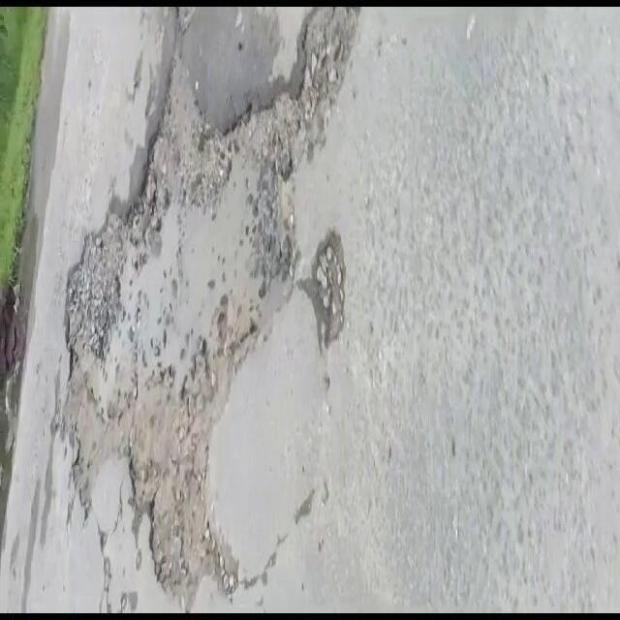lubang: (64, 4, 363, 592), (307, 232, 345, 350)
